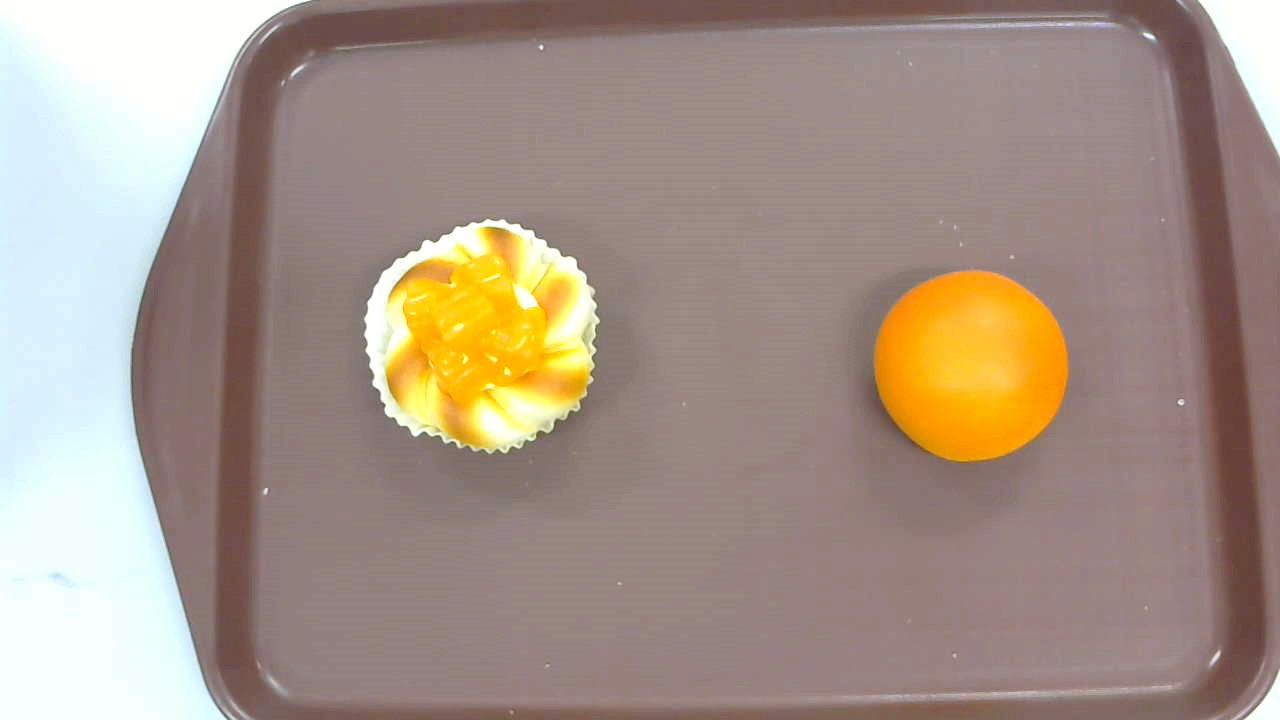bun: (873, 269, 1069, 462)
mango tart: (361, 218, 602, 453)
